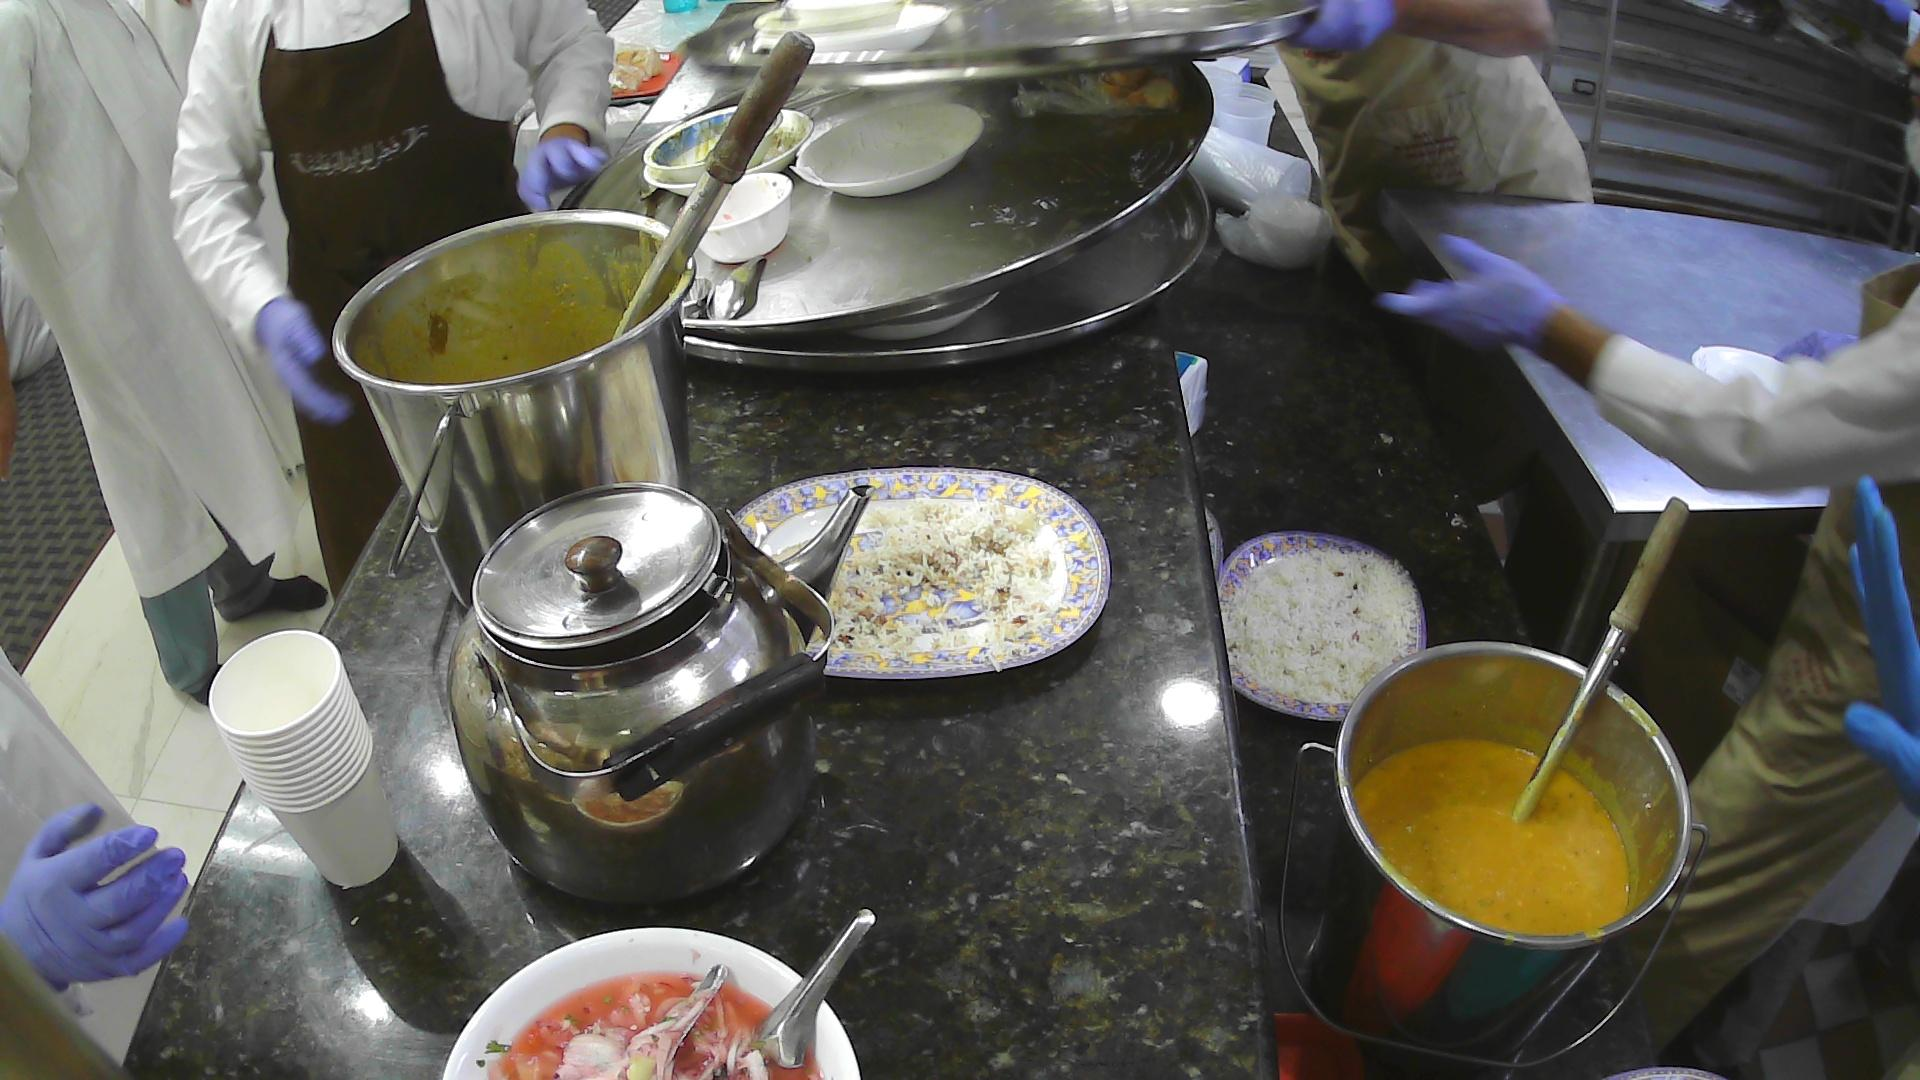thaal: (555, 58, 1216, 340), (684, 167, 1212, 380), (670, 0, 1331, 87)
